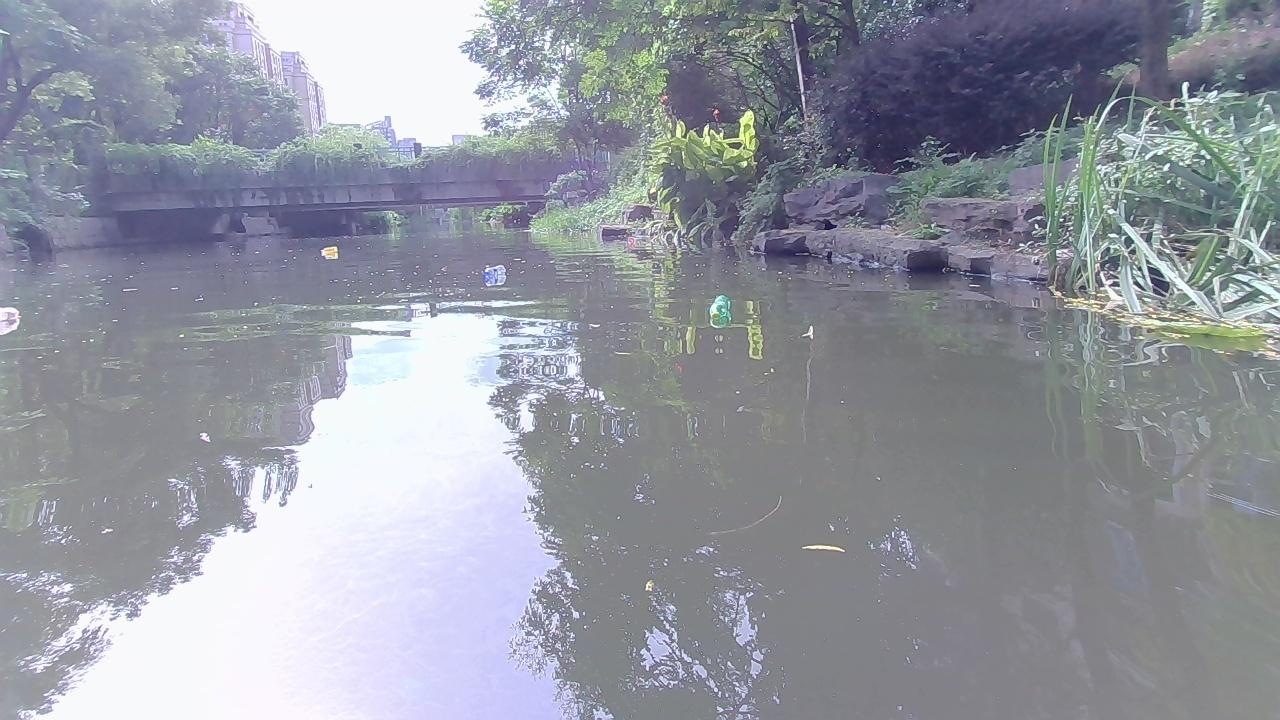bottle: (705, 295, 730, 317), (480, 263, 511, 280), (0, 305, 21, 327), (320, 243, 337, 255), (626, 233, 635, 244)
